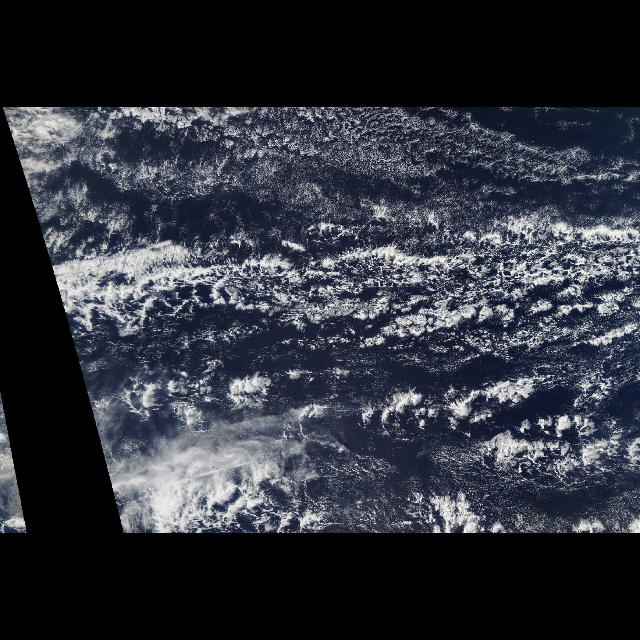Fish: (34, 190, 628, 376)
Gravel: (431, 393, 639, 483)
Sugar: (200, 107, 618, 205)
